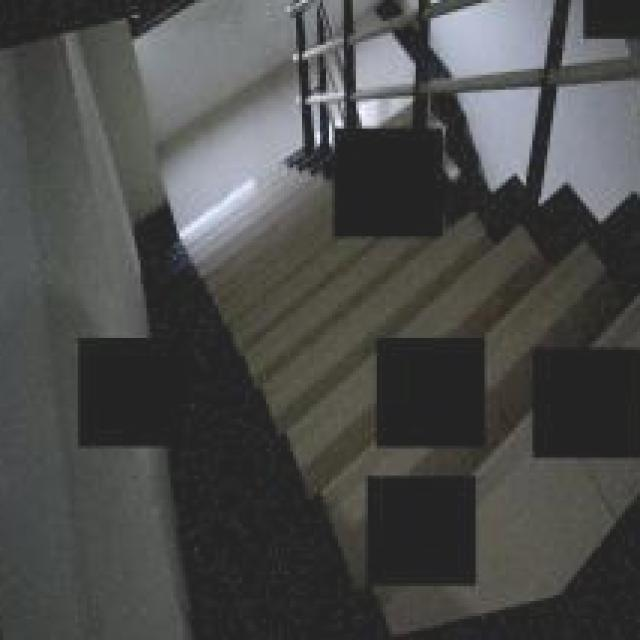downstair: (183, 249, 351, 572)
